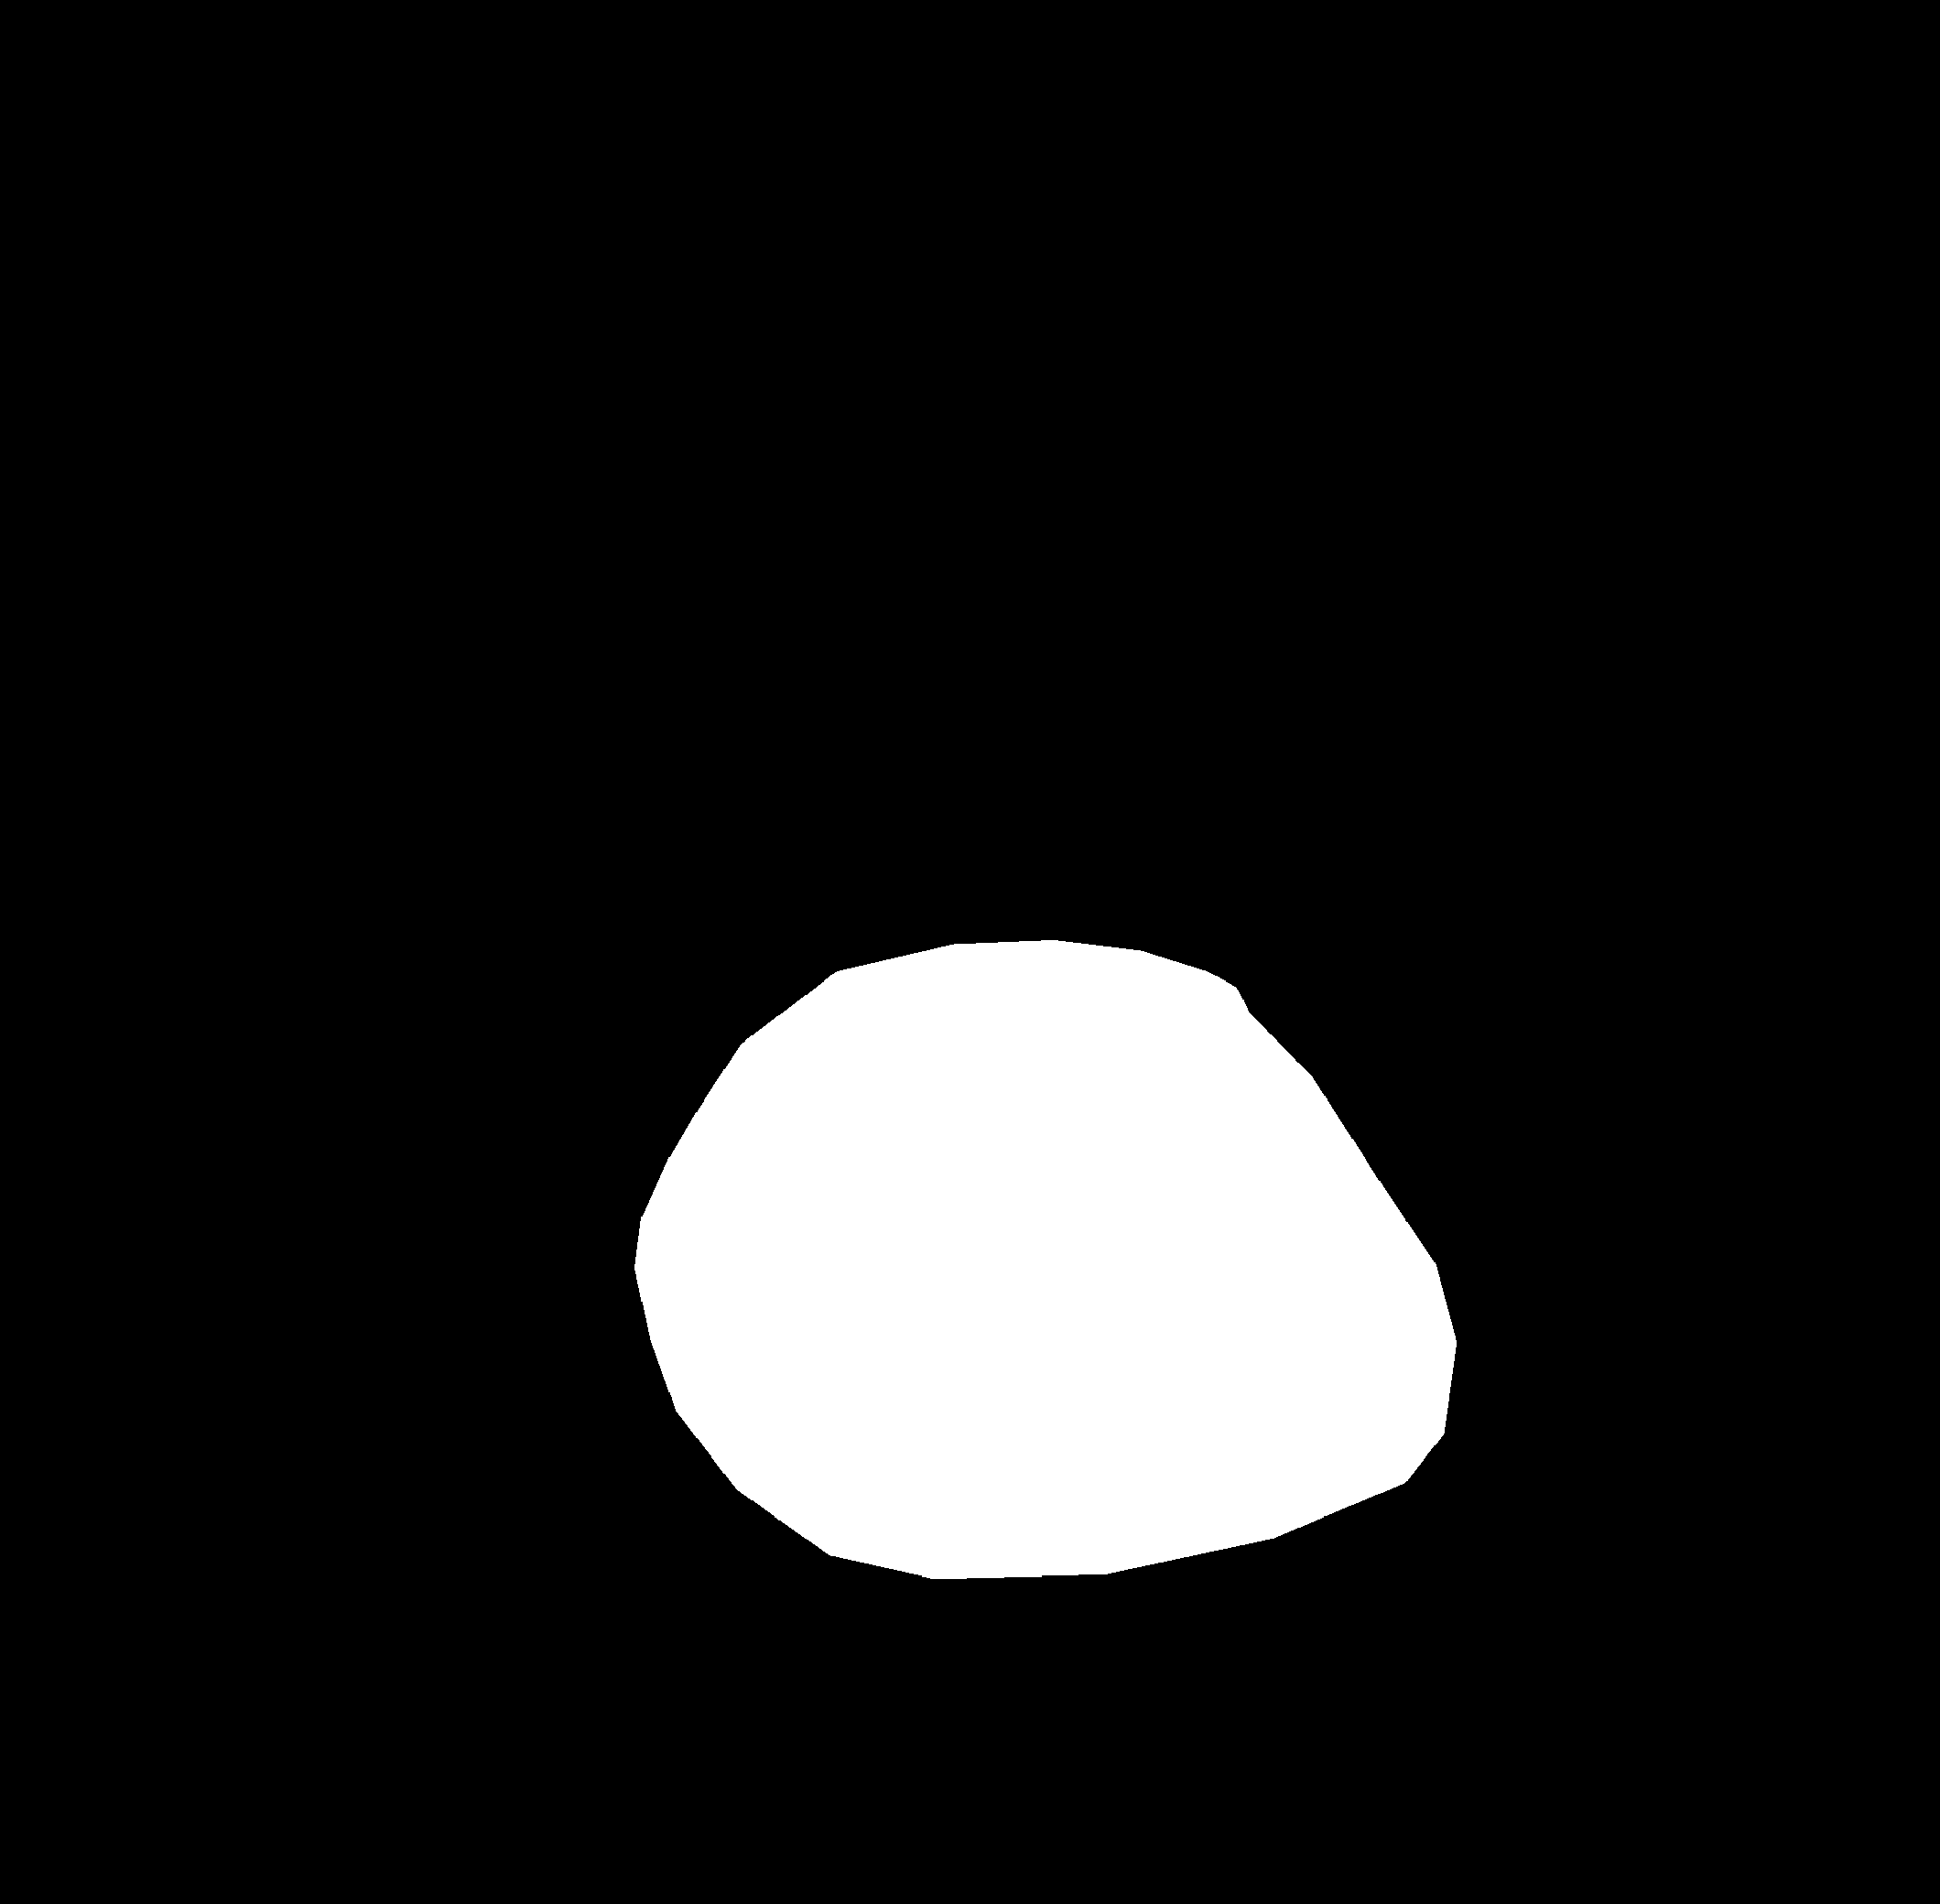heart: (640, 1053, 1495, 1595)
left_lung: (162, 152, 813, 1618)
right_lung: (958, 228, 1684, 1595)
